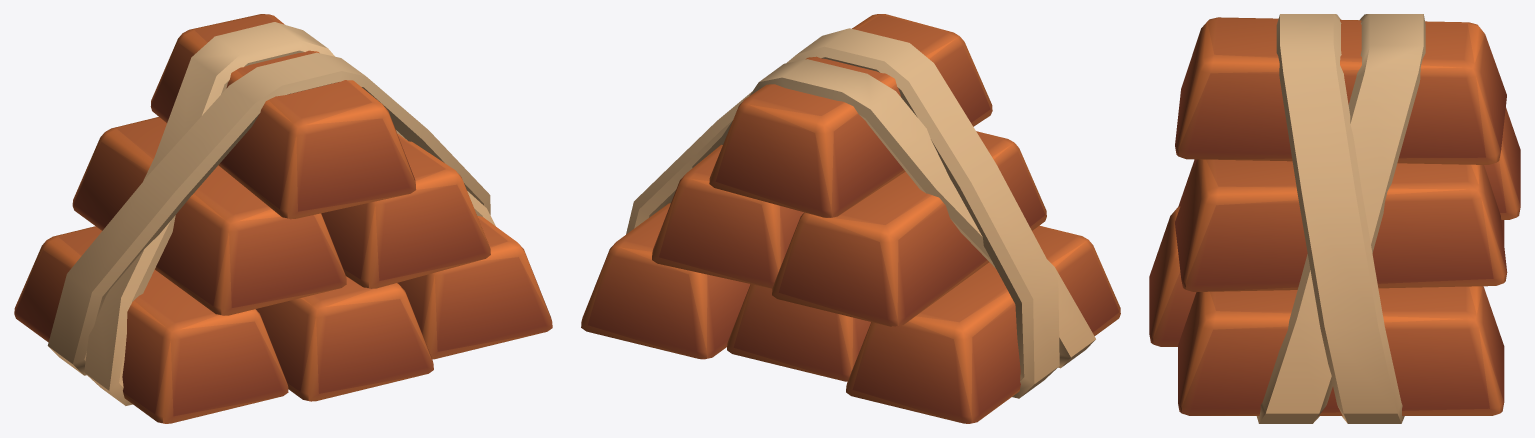
The model's file is Copper_Bars.glb.
3 renders of one model, left to right at view 1: azimuth 30°, elevation 25°; view 2: azimuth 150°, elevation 25°; view 3: azimuth 270°, elevation 25°, orthographic. The views are drawn at different scales.
Visible parts, largest first — view 1: Copper_Bars; view 2: Copper_Bars; view 3: Copper_Bars.
Part boxes in pixels (x1,y1,x2,y2): Copper_Bars: (14, 14, 552, 423); Copper_Bars: (581, 14, 1120, 423); Copper_Bars: (1149, 14, 1520, 423).
Bounding box in the file's own units: 1.27 × 0.7897 × 0.9106.
Materials: 1 (1 with a texture image).
